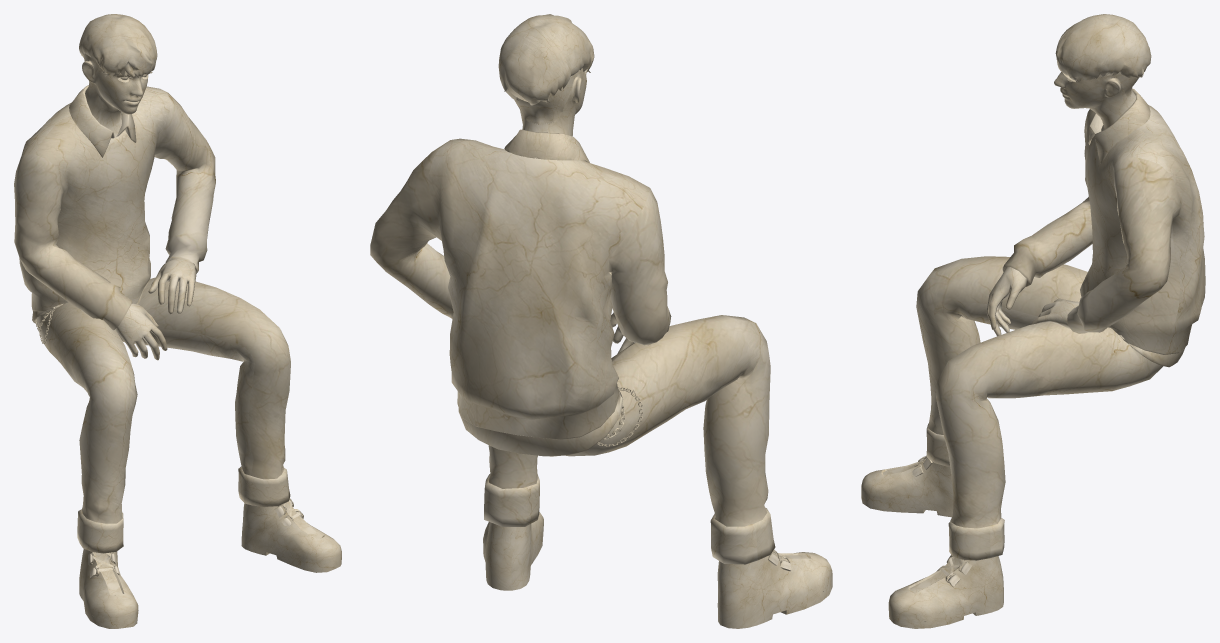
Rendered from Sample_Avatar_M_Sit_001.fbx.
3 views of the same model, side by side, from view 1: azimuth 30°, elevation 25°; view 2: azimuth 150°, elevation 25°; view 3: azimuth 270°, elevation 25° (orthographic). The views are drawn at different scales.
Parts seen in each view (by area): view 1: Sample_Avatar_M_Sit_001; view 2: Sample_Avatar_M_Sit_001; view 3: Sample_Avatar_M_Sit_001.
Part boxes in pixels (left/top/right/bottom): Sample_Avatar_M_Sit_001: left=14, top=14, right=341, bottom=628; Sample_Avatar_M_Sit_001: left=370, top=14, right=832, bottom=628; Sample_Avatar_M_Sit_001: left=861, top=14, right=1205, bottom=628.
Size of the model in its own units: 0.7252 by 1.39 by 0.799.
